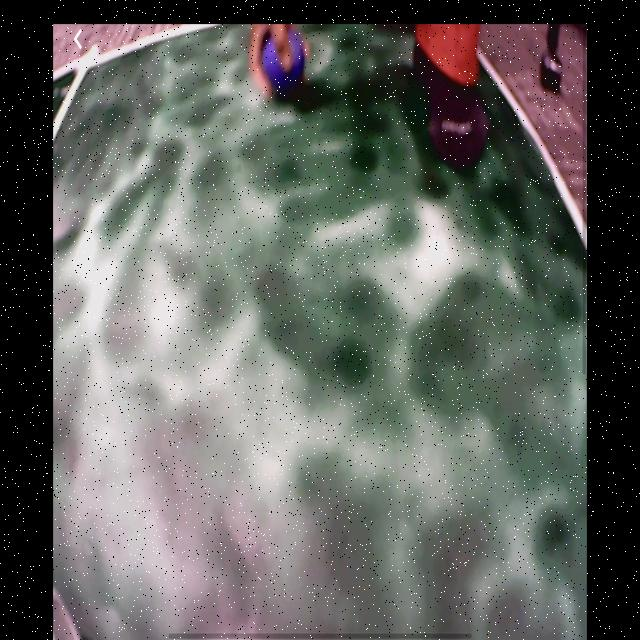ball: (258, 31, 307, 96)
